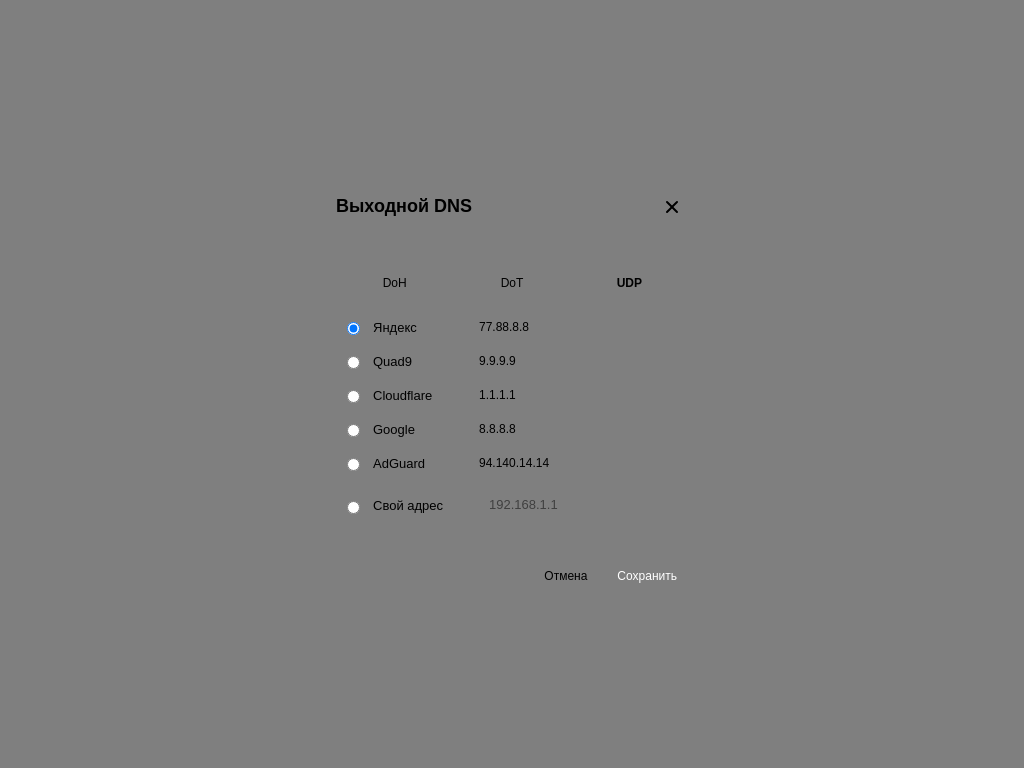
it: SimpleDnsPickerModal › ошибка API показывается, модалка не закрывается
The image size is (1024, 768).
Click the radio button labelled "Google 8.8.8.8": (354, 431) [347,424,360,437]
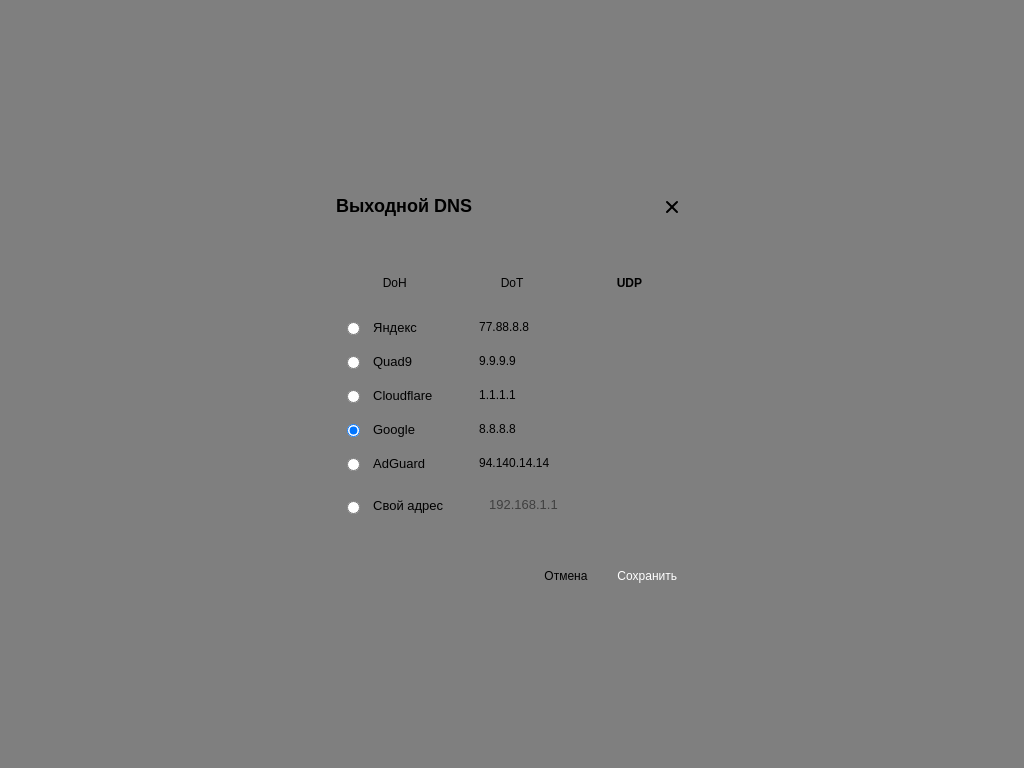
Click the button "Сохранить": (647, 576) [606,562,688,590]
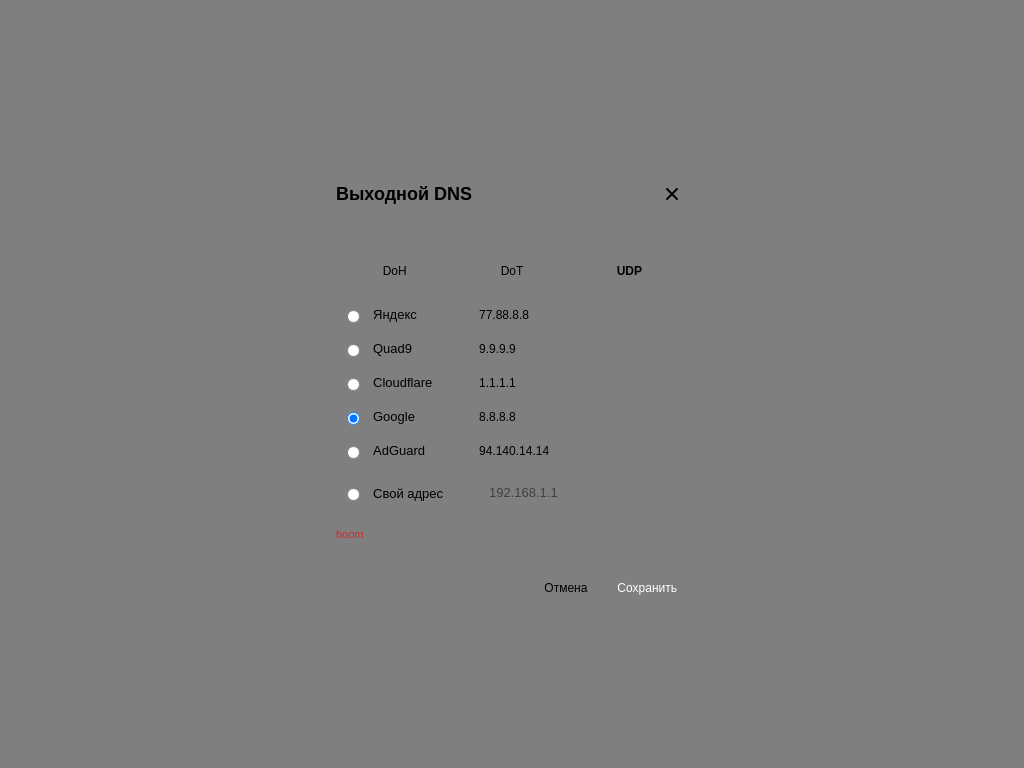
Check: the text "boom" is shown, box [336,528,364,540]
